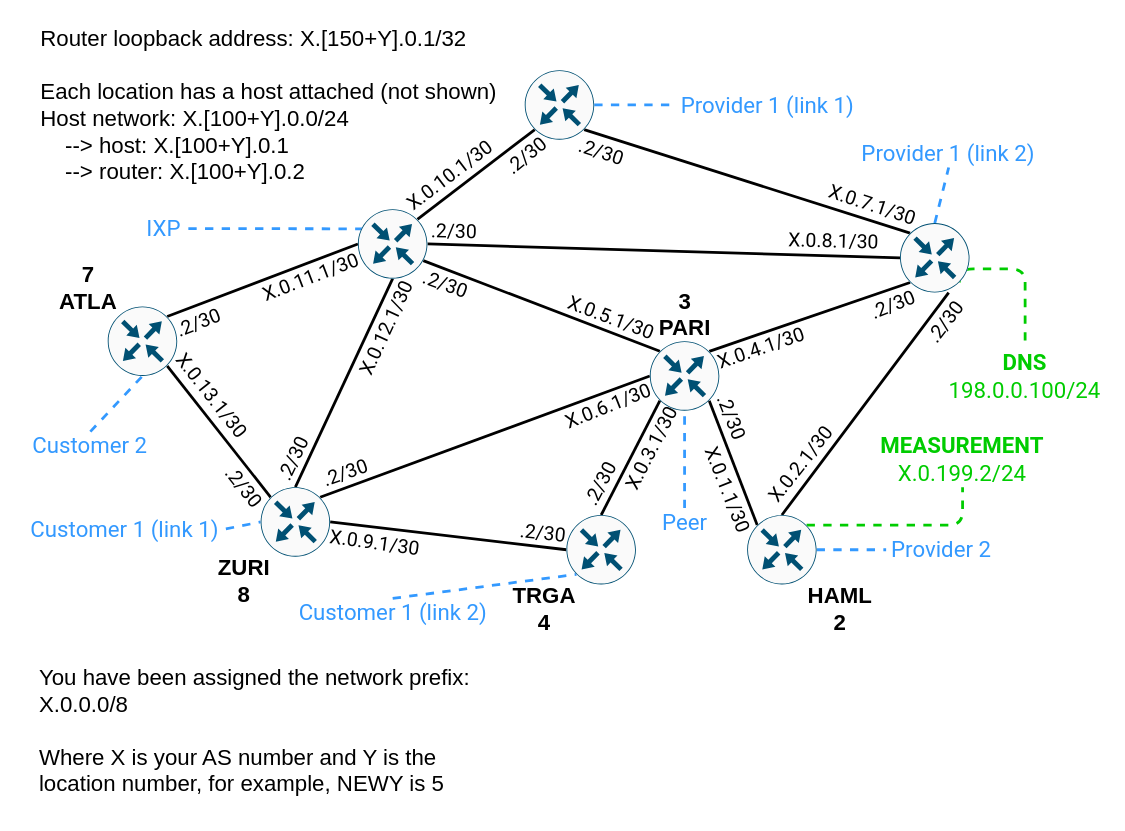
Image size: 1125x831. Some labels were removed from this diagram. The shapes that lost their labels are listed below. From the top down, each one's box as (x1, y1, x2, y2) in pixels, then its label:
(523, 69, 594, 140): 6 BOST
(357, 208, 427, 279): 5 NEWY
(899, 222, 970, 293): 1 LOND
